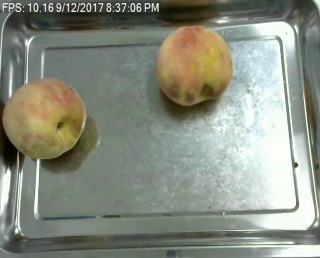Peach: (2, 76, 87, 160), (157, 24, 232, 106)
